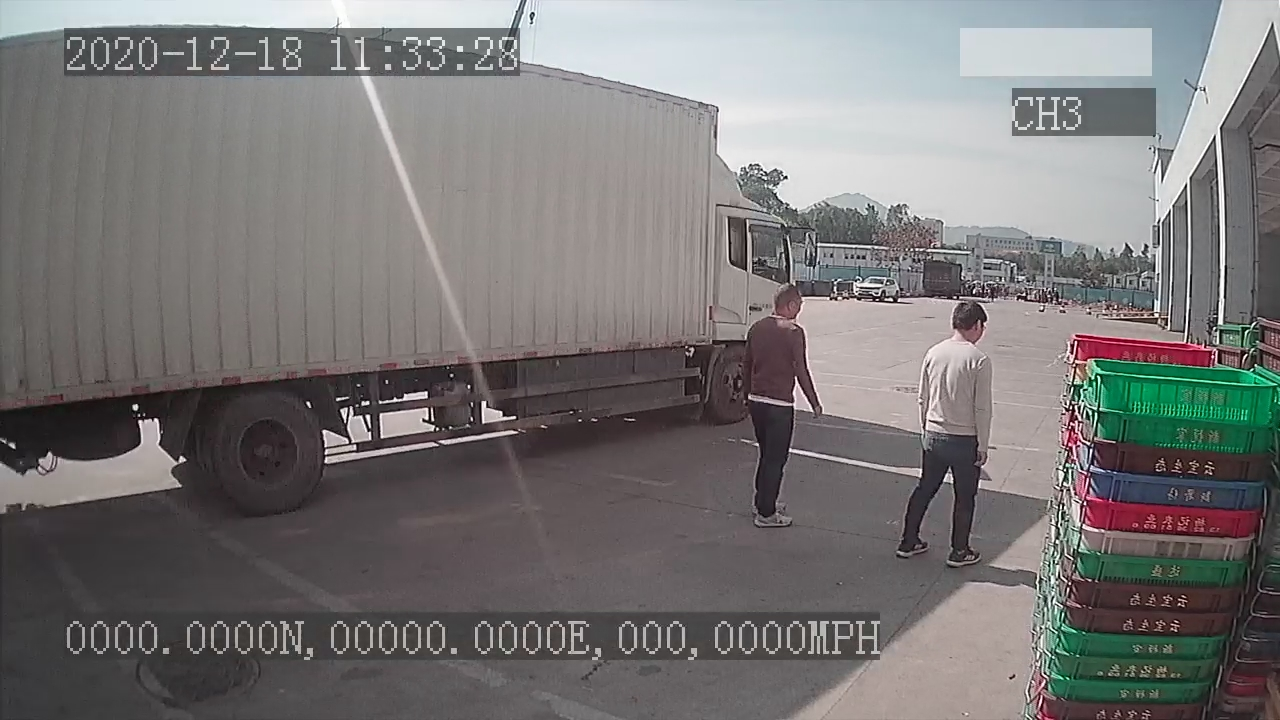person: (893, 296, 1000, 568)
